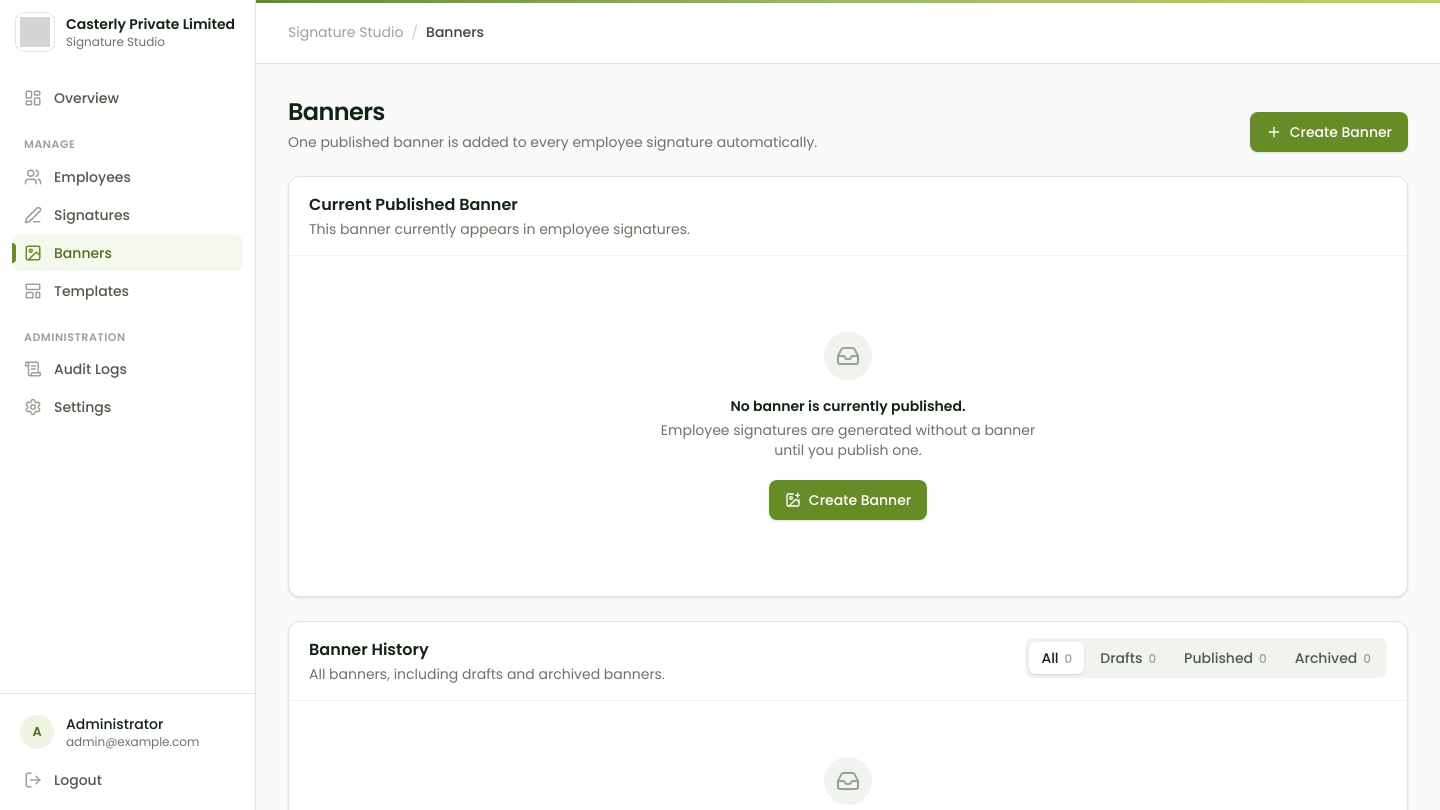
Test: Banner image upload rules › shows the rule from the backend and offers only JPG and PNG
This screenshot has width=1440, height=810.
Click the 1st button "Create Banner" at (1329, 132), box [1250,112,1408,152]
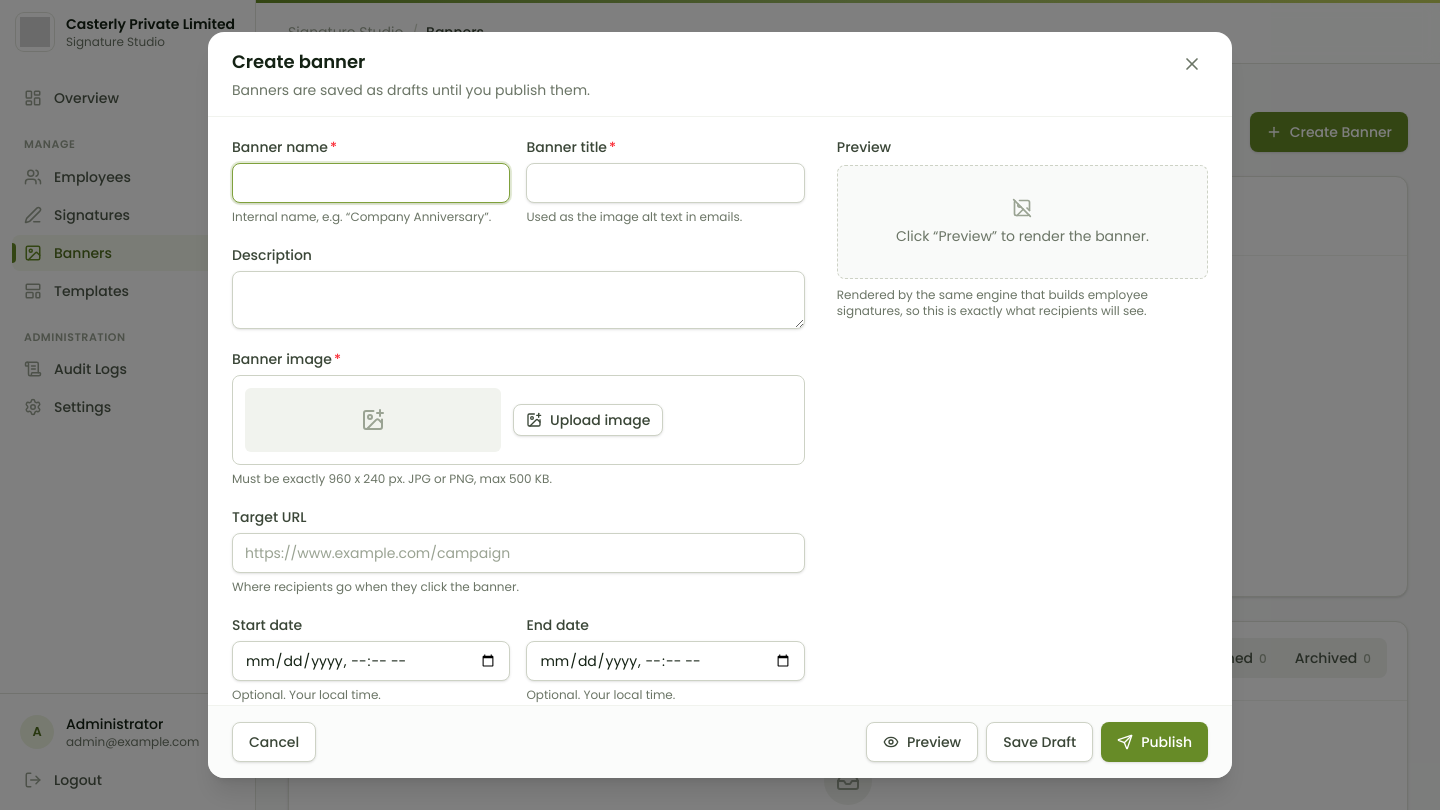
expect the text "Must be exactly 960 x 240 px. JPG or PNG, max 500 KB." is shown: met, box [232,470,552,487]
